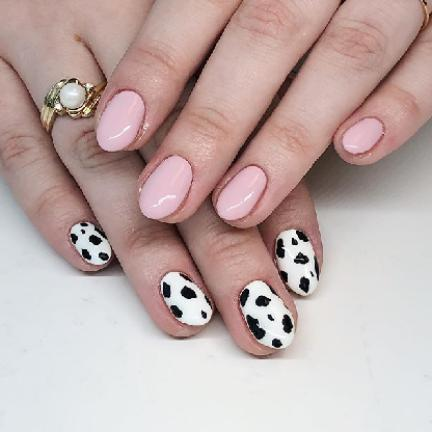Nail: (239, 280, 295, 348), (139, 155, 192, 219), (96, 90, 145, 151), (276, 229, 319, 296), (160, 272, 213, 326), (215, 165, 267, 220), (69, 222, 112, 265), (342, 118, 384, 154)
